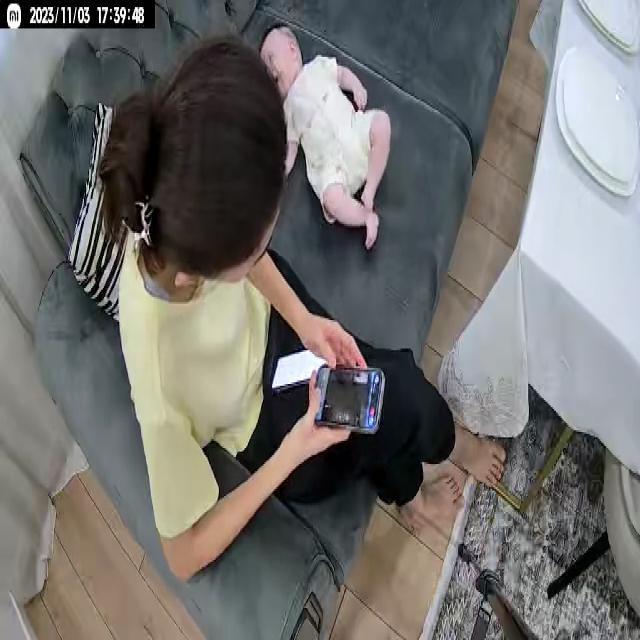baby: (254, 18, 396, 256)
